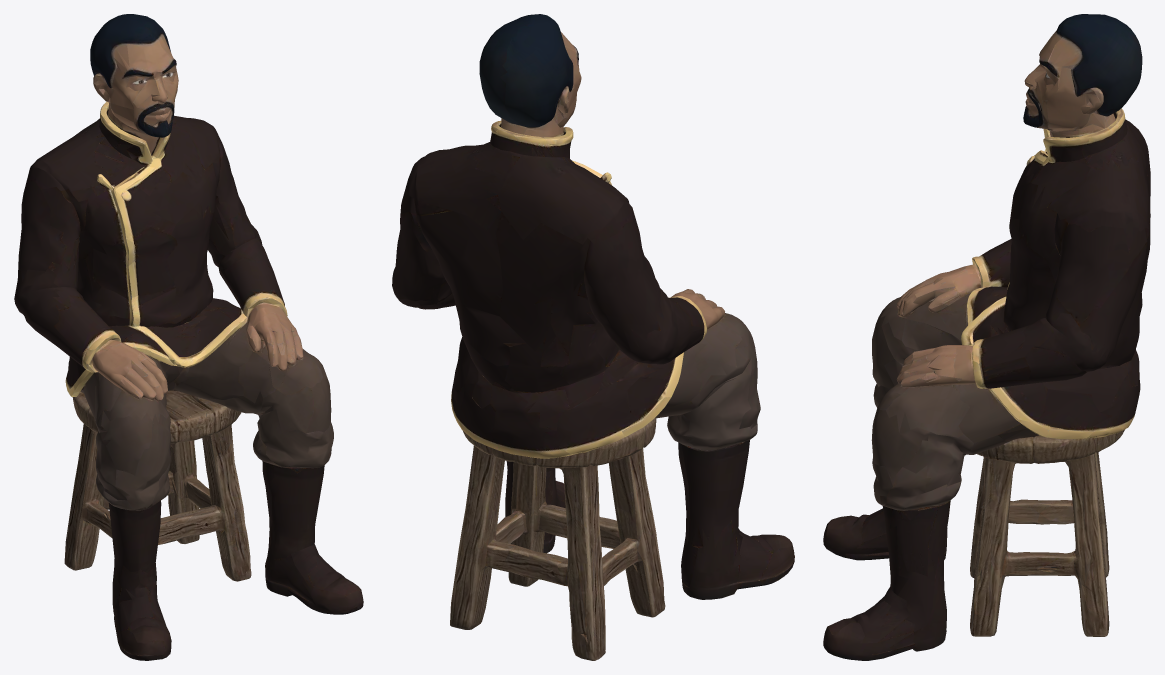
Rendered from piandao.glb.
3 views of the same model, side by side, from view 1: azimuth 30°, elevation 25°; view 2: azimuth 150°, elevation 25°; view 3: azimuth 270°, elevation 25° (orthographic). The views are drawn at different scales.
Visible parts, largest first — view 1: Mesh_0; view 2: Mesh_0; view 3: Mesh_0.
Part boxes in pixels (bbox=[...]): Mesh_0: bbox=[14, 14, 363, 660]; Mesh_0: bbox=[392, 14, 794, 660]; Mesh_0: bbox=[823, 14, 1150, 660].
Size of the model in its own units: 0.8923 by 1.9 by 0.9636.
Materials: 1 (1 with a texture image).
